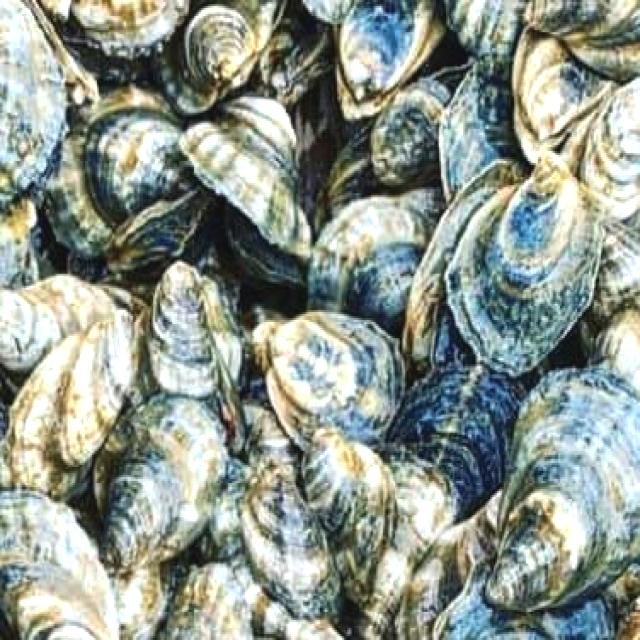Oyster-Closed: (356, 358, 534, 639), (486, 367, 640, 612), (443, 147, 604, 372), (193, 457, 347, 640), (40, 82, 199, 257), (402, 162, 515, 365), (101, 394, 228, 568), (178, 105, 310, 270), (267, 311, 406, 456), (0, 489, 121, 639), (306, 195, 428, 339), (305, 430, 398, 606), (394, 489, 501, 640), (150, 0, 289, 115), (433, 554, 617, 640), (513, 25, 621, 167), (242, 464, 344, 614), (438, 54, 534, 211), (2, 334, 94, 493), (0, 0, 68, 210), (337, 0, 448, 122), (0, 274, 118, 373), (79, 515, 172, 640), (57, 316, 133, 467), (108, 184, 214, 279), (150, 258, 219, 397), (526, 0, 640, 79), (369, 79, 452, 187), (581, 79, 640, 226), (58, 0, 195, 57), (329, 121, 407, 218), (158, 564, 256, 640), (199, 269, 250, 396), (246, 411, 309, 502), (445, 0, 530, 57)
Oyster-Open: (224, 201, 306, 289)
